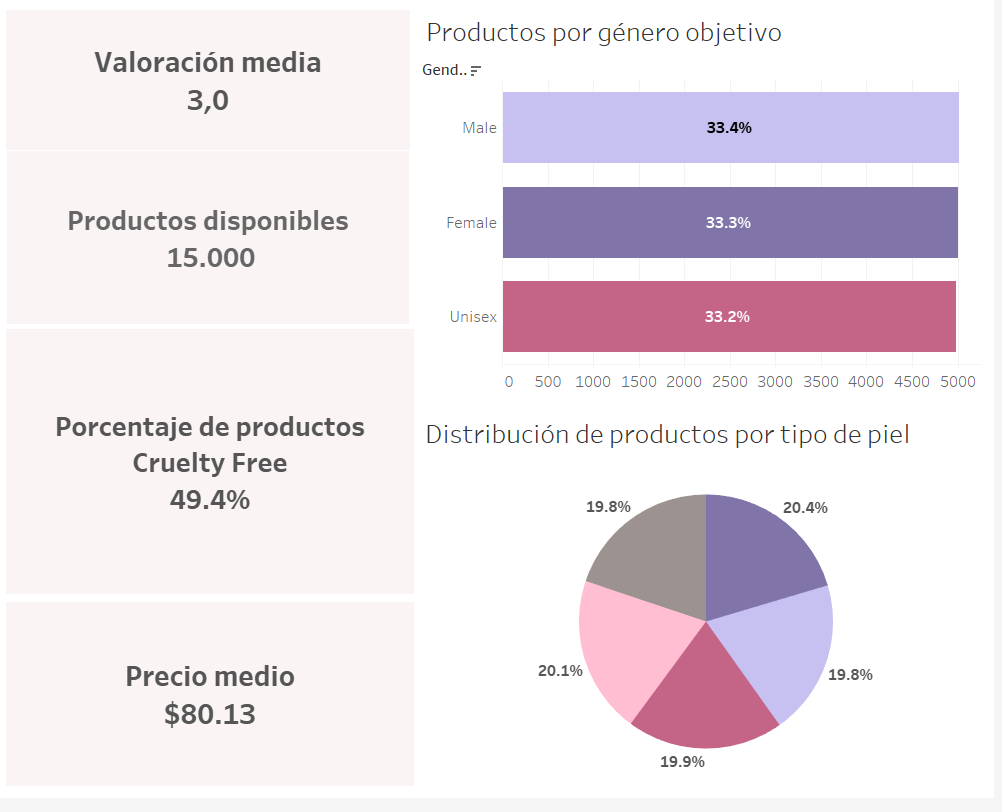

What the dashboard file says about the page in this screenshot:
{"tool":"tableau","page":{"name":"Dashboard 1","canvas":[1000,800],"ordinal":0},"visuals":[{"type":"worksheet","title":"KPI-Valoracion media","mark":"Automatic","box":[8,8,416,319]},{"type":"worksheet","title":"Productos por género objetivo","mark":"Bar","rows":["Gender_Target"],"cols":["Product_Name"],"box":[424,8,568,392]},{"type":"worksheet","title":"KPI-Total productos","mark":"Text","box":[13,153,402,173]},{"type":"worksheet","title":"KPI- Cruelty free","mark":"Text","box":[8,327,416,273]},{"type":"worksheet","title":"Distribución por tipo de piel","mark":"Pie","box":[427,414,570,369]},{"type":"worksheet","title":"KPI- Precio medio","mark":"Automatic","box":[8,600,416,192]}]}

Visuals, with their boxes in screenshot pixels (x1, y1, x2, y2), scaled from the page's 1000x800 canvas onto the 1002x812 screenshot:
"KPI-Valoracion media" worksheet: detection(8, 8, 425, 332)
"Productos por género objetivo" worksheet (Bar marks): detection(425, 8, 994, 406)
"KPI-Total productos" worksheet (Text marks): detection(13, 155, 416, 331)
"KPI- Cruelty free" worksheet (Text marks): detection(8, 332, 425, 609)
"Distribución por tipo de piel" worksheet (Pie marks): detection(428, 420, 999, 795)
"KPI- Precio medio" worksheet: detection(8, 609, 425, 804)
